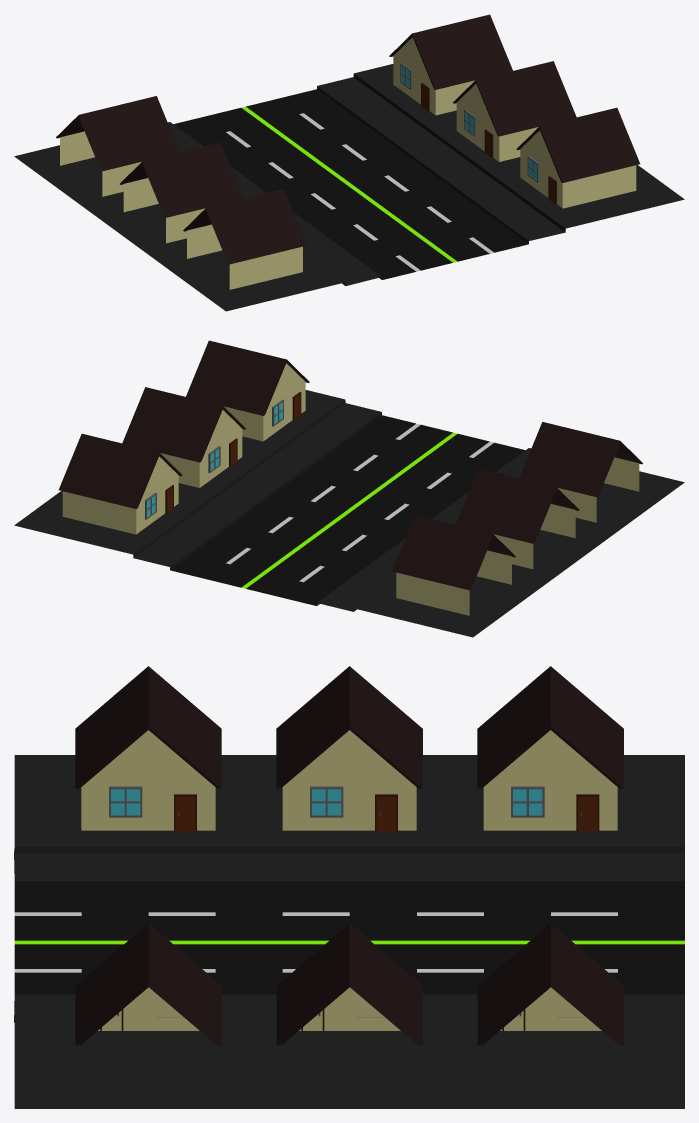
File: TrashStage.obj
The picture shows the model from 3 angles, top to bottom: view 1: azimuth 30°, elevation 25°; view 2: azimuth 150°, elevation 25°; view 3: azimuth 270°, elevation 25°; orthographic projection. The views are drawn at different scales.
Visible parts, largest first — view 1: Ground, Home.002, Home.005, Home.001, Home, Home.004, Home.003; view 2: Ground, Home, Home.003, Home.001, Home.002, Home.005, Home.004; view 3: Ground, Home.003, Home.004, Home.005, Home.001, Home.002, Home.
Boxes of the visible parts, x1,y1,x2,y2 form: Ground: (14, 64, 684, 311); Home.002: (516, 107, 640, 208); Home.005: (183, 189, 306, 289); Home.001: (453, 61, 576, 161); Home: (389, 14, 512, 115); Home.004: (119, 142, 243, 243); Home.003: (56, 96, 179, 196); Ground: (14, 390, 684, 637); Home: (58, 433, 182, 534); Home.003: (392, 515, 515, 615); Home.001: (122, 387, 245, 487); Home.002: (186, 340, 309, 441); Home.005: (519, 422, 642, 522); Home.004: (456, 468, 579, 569); Ground: (14, 755, 684, 1108); Home.003: (477, 666, 623, 831); Home.004: (276, 666, 422, 831); Home.005: (75, 666, 221, 831); Home.001: (276, 923, 422, 1045); Home.002: (75, 923, 221, 1045); Home: (477, 923, 623, 1045).
Size of the model in its own units: 50 by 7.69 by 40.04.
